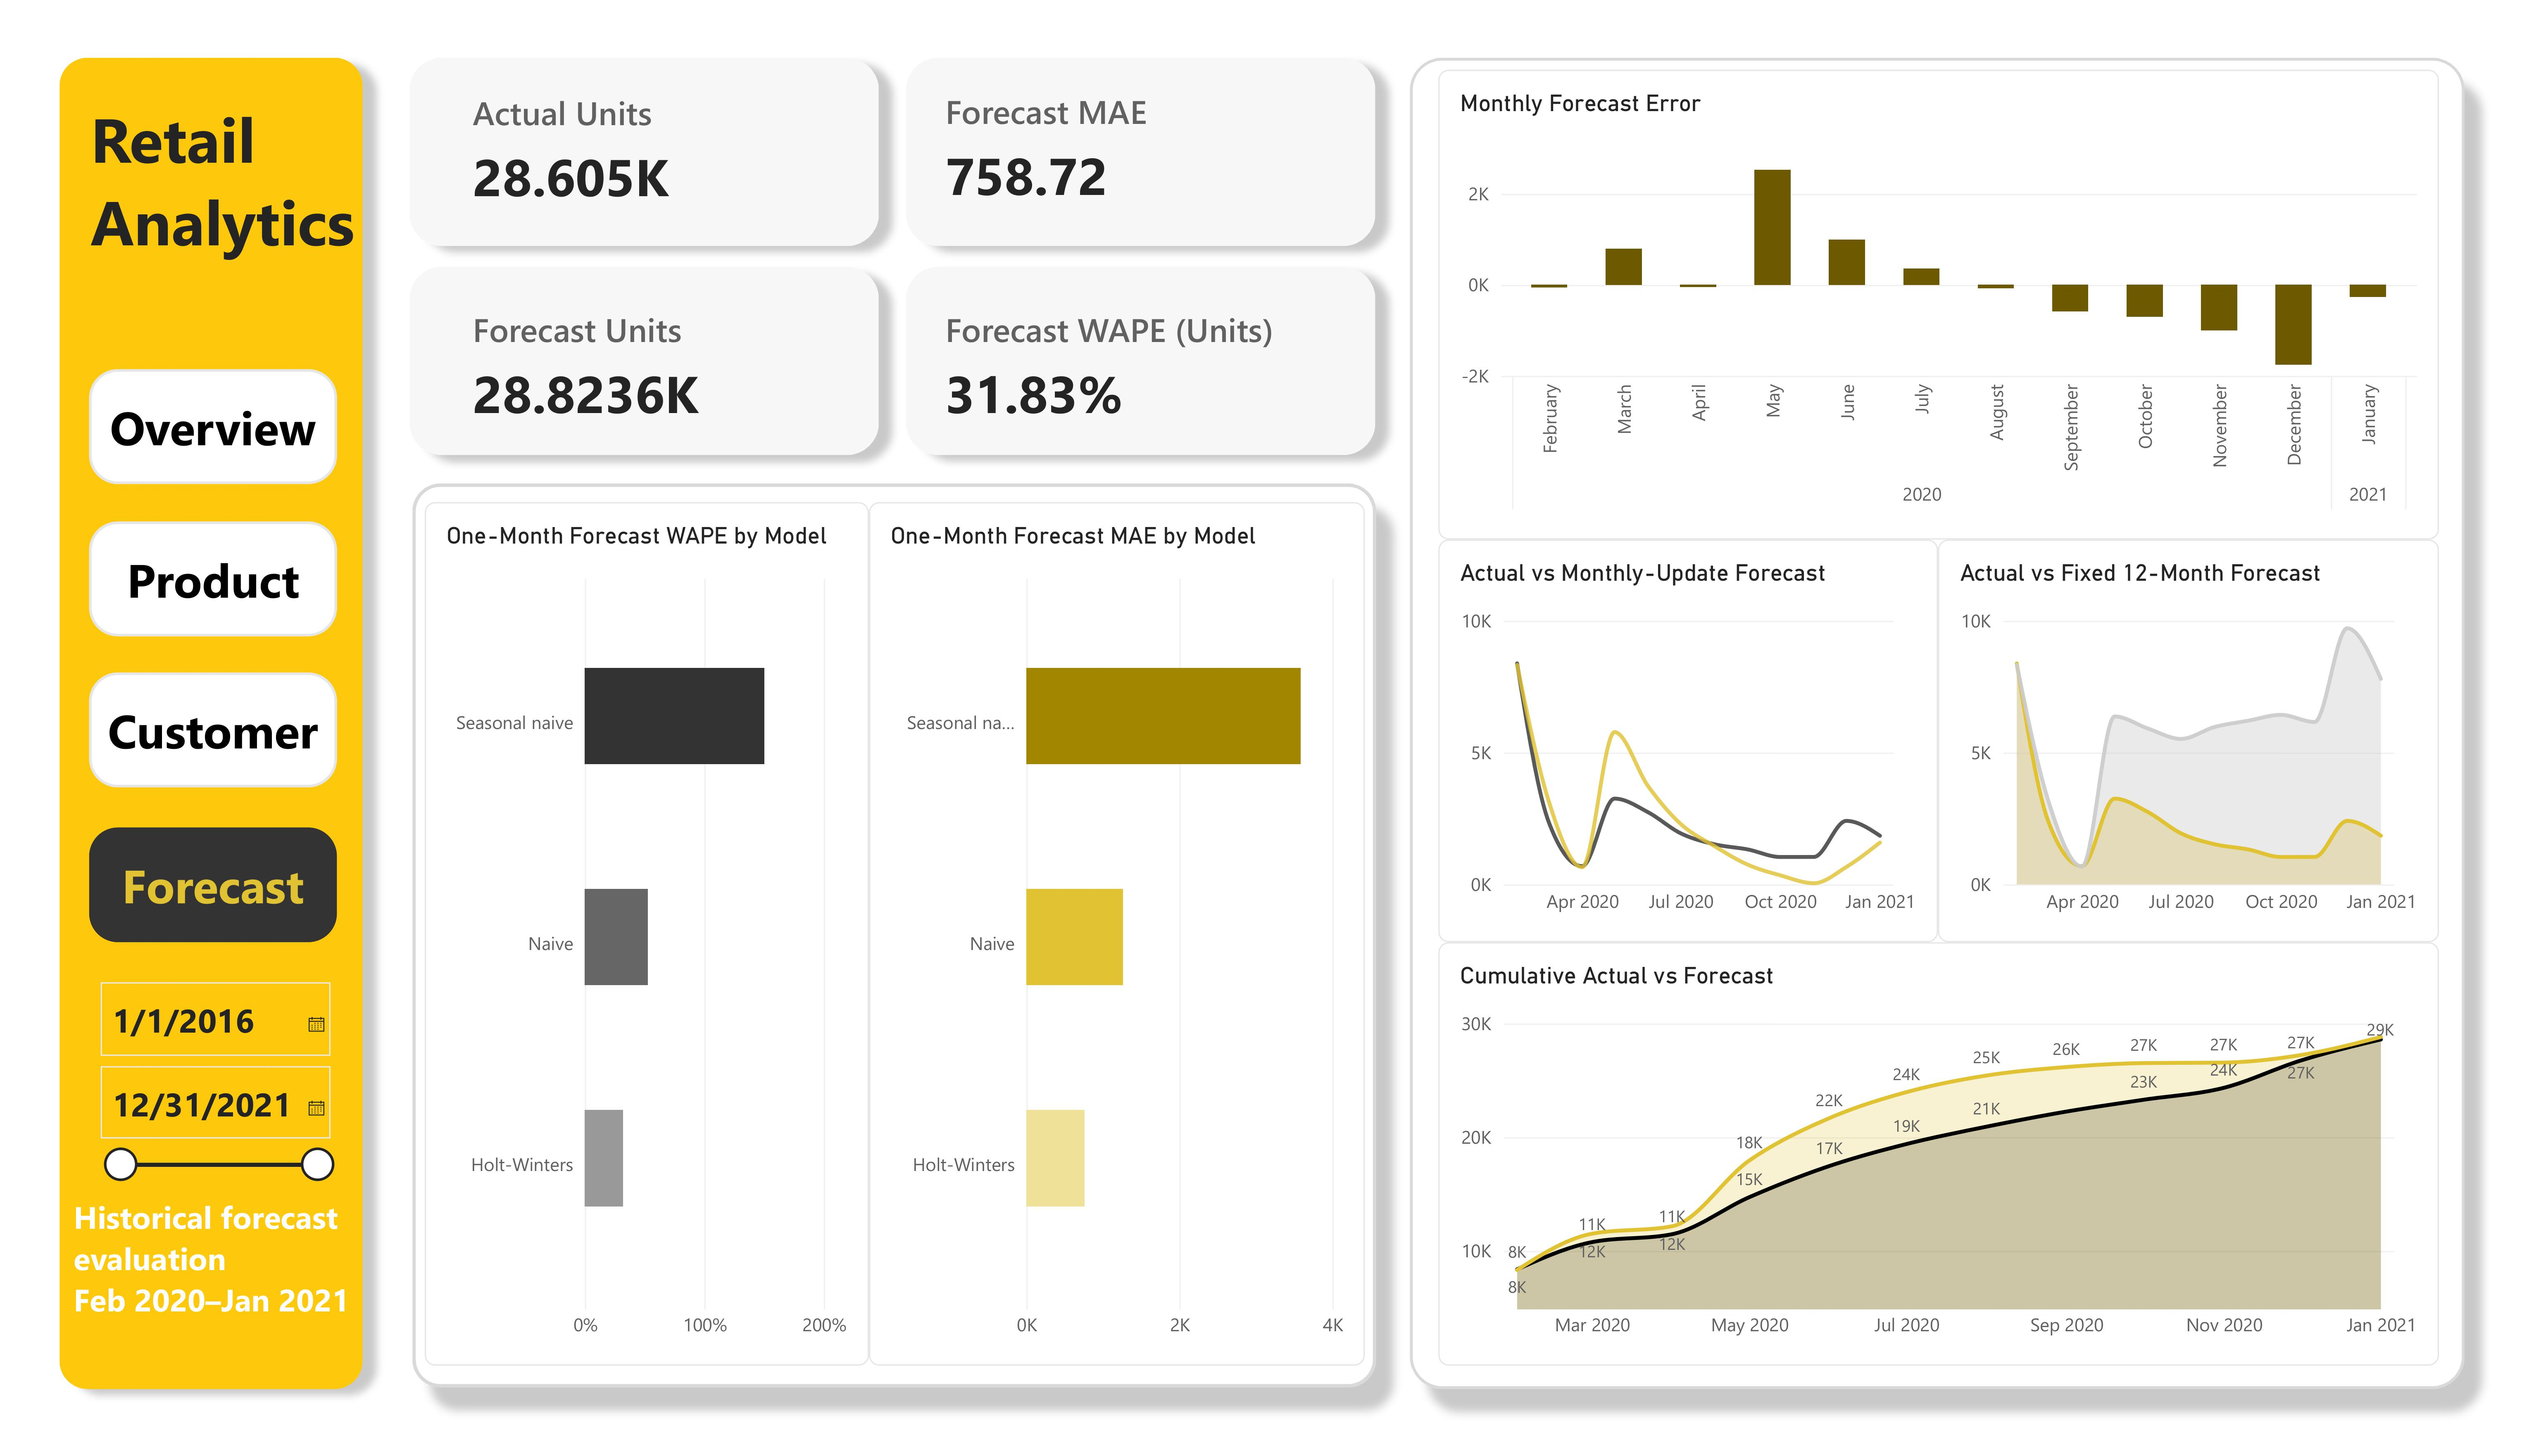

This screenshot's page, from the dashboard's own definition file:
{"tool":"powerbi","page":{"name":"Sales Forecasting","canvas":[1920,1080],"ordinal":3},"visuals":[{"type":"cardVisual","fields":{"Data":["ForecastMonthly.Actual Units"]},"box":[326.2,50.6,322.7,83.7],"z":0},{"type":"cardVisual","fields":{"Data":["ForecastMonthly.Forecast MAE"]},"box":[692.1,17.3,341.7,149.2],"z":1000},{"type":"cardVisual","fields":{"Data":["ForecastMonthly.Forecast Units"]},"box":[326.2,200.6,280.8,120.3],"z":2000},{"type":"cardVisual","fields":{"Data":["ForecastMonthly.Forecast WAPE"]},"box":[692.1,201.1,359,118.9],"z":3000},{"type":"clusteredColumnChart","title":"Monthly Forecast Error","fields":{"Category":["ForecastMonthly.Month.Variation.Date Hierarchy.Year","ForecastMonthly.Month.Variation.Date Hierarchy.Month"],"Y":["ForecastMonthly.Forecast Error"]},"box":[1090.1,29.7,774.4,364.5],"z":4000},{"type":"clusteredBarChart","title":"One-Month Forecast MAE by Model","fields":{"Category":["ForecastModel.Model"],"Y":["ForecastModel.Model MAE"]},"box":[648.8,364.5,383.7,669.8],"z":5000},{"type":"lineChart","title":"Actual vs Monthly-Update Forecast","fields":{"Category":["ForecastMonthly.Month.Variation.Date Hierarchy.Year","ForecastMonthly.Month.Variation.Date Hierarchy.Quarter","ForecastMonthly.Month.Variation.Date Hierarchy.Month","ForecastMonthly.Month.Variation.Date Hierarchy.Day"],"Y":["ForecastMonthly.Actual Units","ForecastMonthly.Forecast Units"]},"box":[1090.1,394.2,387.2,312.2],"z":6000},{"type":"clusteredBarChart","title":"One-Month Forecast WAPE by Model","fields":{"Category":["ForecastModel.Model"],"Y":["ForecastModel.Model WAPE"]},"box":[305.2,364.5,343.6,669.8],"z":7000},{"type":"lineChart","title":"Cumulative Actual vs Forecast","fields":{"Category":["ForecastMonthly.Month"],"Y":["ForecastModel.Actual Cumulative","ForecastModel.Forecast Cumulative"]},"box":[1090.1,706.4,774.4,327.9],"z":8000},{"type":"shape","box":[45.3,261.6,191.9,89],"z":9000},{"type":"slicer","fields":{"Values":["DimDate.Date"]},"box":[46,732,192,170],"z":10000},{"type":"textbox","box":[46,50,214,150],"z":11000},{"type":"shape","title":"Product","box":[45.3,380.2,191.9,89],"z":12000},{"type":"shape","box":[45.3,497.1,191.9,89],"z":13000},{"type":"lineChart","title":"Actual vs Fixed 12-Month Forecast","fields":{"Category":["ForecastMonthly.Month.Variation.Date Hierarchy.Year","ForecastMonthly.Month.Variation.Date Hierarchy.Quarter","ForecastMonthly.Month.Variation.Date Hierarchy.Month","ForecastMonthly.Month.Variation.Date Hierarchy.Day"],"Y":["ForecastMonthly.Actual Units","ForecastMonthly.Fixed Forecast Units"]},"box":[1477.3,394.2,387.2,312.2],"z":14000},{"type":"shape","box":[45.3,617.4,191.9,89],"z":15000},{"type":"textbox","box":[33.1,901.7,214.5,150],"z":16000}]}

Visuals, with their boxes on the page's 1920x1080 design canvas (x1, y1, x2, y2). These are canvas units, not pixel positions in the 2541x1456 screenshot, which may show the page scaled, cropped or inside an application window:
cardVisual - ForecastMonthly.Actual Units: x1=326, y1=51, x2=649, y2=134
cardVisual - ForecastMonthly.Forecast MAE: x1=692, y1=17, x2=1034, y2=166
cardVisual - ForecastMonthly.Forecast Units: x1=326, y1=201, x2=607, y2=321
cardVisual - ForecastMonthly.Forecast WAPE: x1=692, y1=201, x2=1051, y2=320
"Monthly Forecast Error" clusteredColumnChart: x1=1090, y1=30, x2=1864, y2=394
"One-Month Forecast MAE by Model" clusteredBarChart: x1=649, y1=364, x2=1032, y2=1034
"Actual vs Monthly-Update Forecast" lineChart: x1=1090, y1=394, x2=1477, y2=706
"One-Month Forecast WAPE by Model" clusteredBarChart: x1=305, y1=364, x2=649, y2=1034
"Cumulative Actual vs Forecast" lineChart: x1=1090, y1=706, x2=1864, y2=1034
shape: x1=45, y1=262, x2=237, y2=351
slicer - DimDate.Date: x1=46, y1=732, x2=238, y2=902
textbox: x1=46, y1=50, x2=260, y2=200
"Product" shape: x1=45, y1=380, x2=237, y2=469
shape: x1=45, y1=497, x2=237, y2=586
"Actual vs Fixed 12-Month Forecast" lineChart: x1=1477, y1=394, x2=1864, y2=706
shape: x1=45, y1=617, x2=237, y2=706
textbox: x1=33, y1=902, x2=248, y2=1052
